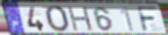1: (120, 6, 135, 32)
4: (26, 6, 45, 32)
6: (92, 6, 114, 32)
F: (136, 6, 159, 33)
H: (66, 6, 95, 32)
O: (44, 5, 71, 34)
